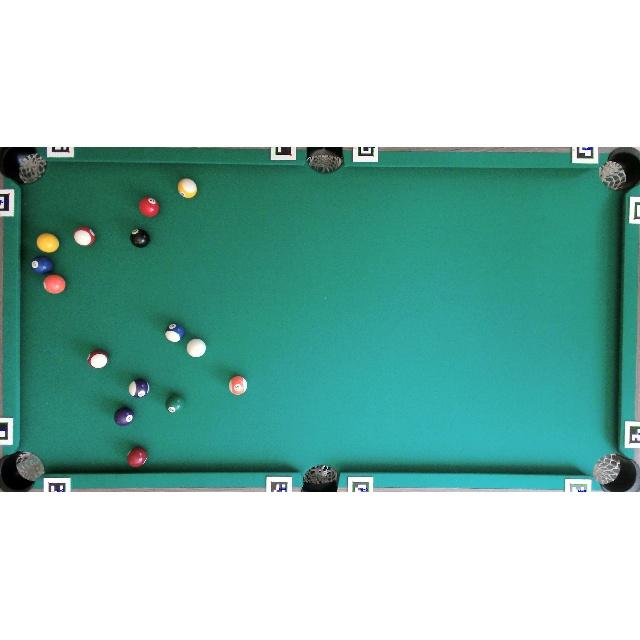cue ball: (186, 338, 206, 358)
other: (36, 232, 60, 254), (43, 274, 66, 295), (30, 254, 54, 274), (165, 393, 186, 415), (126, 447, 148, 468), (128, 378, 150, 399), (113, 406, 135, 427), (138, 196, 160, 217), (73, 226, 96, 246), (86, 349, 108, 369), (228, 375, 248, 396), (164, 322, 185, 342), (177, 178, 197, 198), (130, 228, 150, 248)
